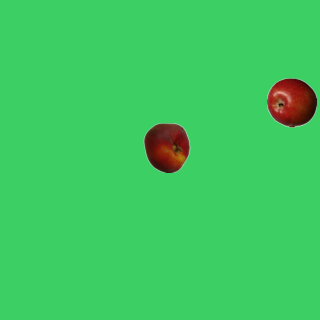Apple Braeburn: (266, 77, 316, 127)
Nectarine Flat: (141, 122, 191, 172)
